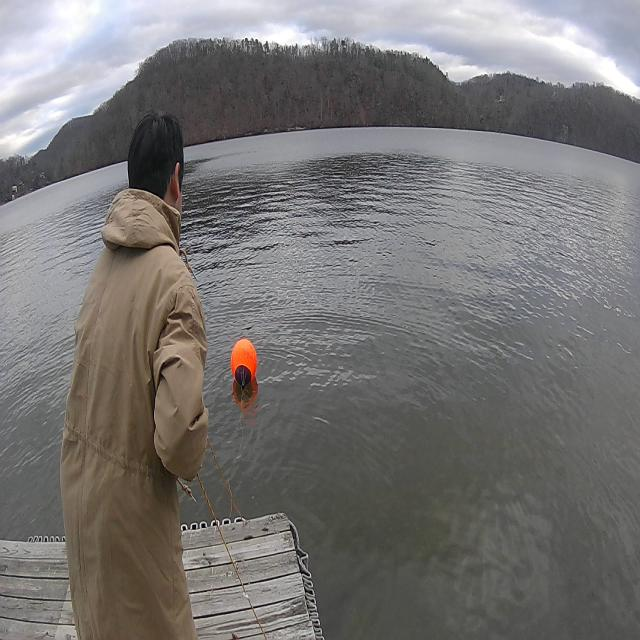Buoy: (228, 332, 258, 399)
